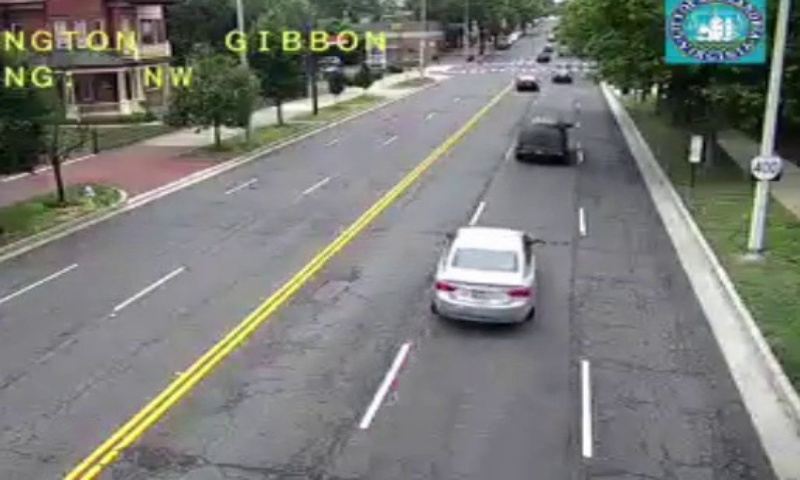car: (432, 227, 536, 320), (516, 117, 568, 161)
